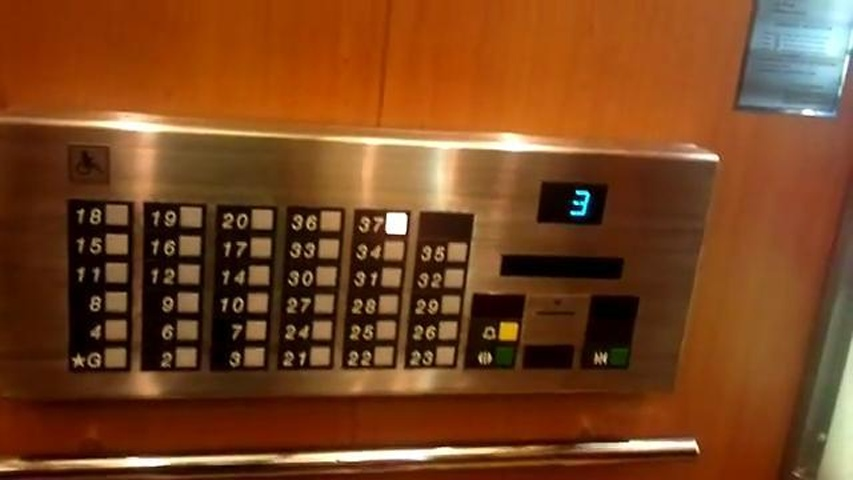10: (210, 290, 273, 317)
11: (64, 258, 132, 289)
12: (138, 260, 206, 287)
14: (212, 261, 275, 290)
15: (64, 228, 133, 261)
16: (138, 232, 206, 259)
17: (212, 233, 276, 261)
18: (63, 198, 135, 231)
19: (140, 200, 208, 234)
2: (137, 345, 203, 373)
20: (212, 204, 279, 232)
21: (276, 344, 334, 373)
22: (339, 344, 398, 372)
23: (402, 343, 460, 370)
24: (277, 317, 337, 346)
25: (341, 316, 401, 345)
26: (404, 315, 463, 344)
27: (280, 290, 340, 318)
28: (344, 290, 404, 318)
29: (408, 290, 466, 317)
3: (208, 344, 272, 372)
30: (281, 263, 342, 290)
31: (346, 262, 408, 291)
32: (411, 267, 470, 291)
33: (283, 235, 344, 264)
34: (347, 236, 409, 263)
35: (415, 239, 473, 266)
36: (282, 205, 347, 235)
37: (349, 207, 412, 236)
4: (64, 317, 132, 344)
6: (138, 315, 204, 345)
7: (209, 316, 272, 345)
8: (64, 289, 132, 318)
9: (137, 288, 204, 315)
CH: (63, 141, 113, 187)
alarm: (466, 318, 523, 344)
close: (578, 344, 633, 372)
led: (535, 180, 608, 224)
open: (461, 342, 521, 371)
sG: (64, 342, 131, 374)
